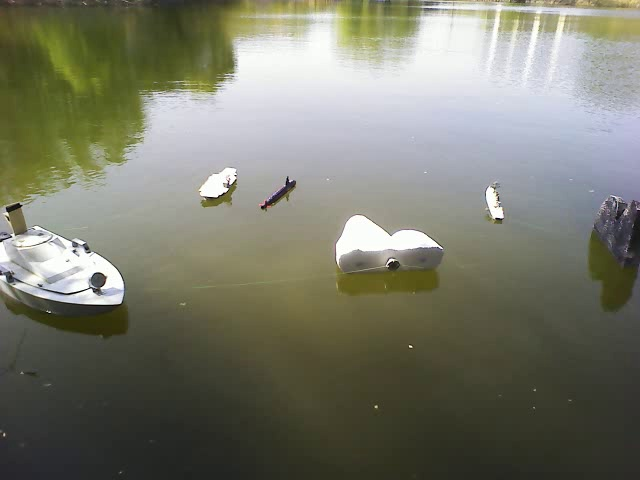aircraft_carrier: (196, 163, 237, 200)
boat: (4, 223, 129, 319)
iceberg: (333, 214, 448, 277)
rock: (592, 182, 635, 266)
submarine: (259, 174, 294, 211)
warship: (483, 180, 509, 227)
